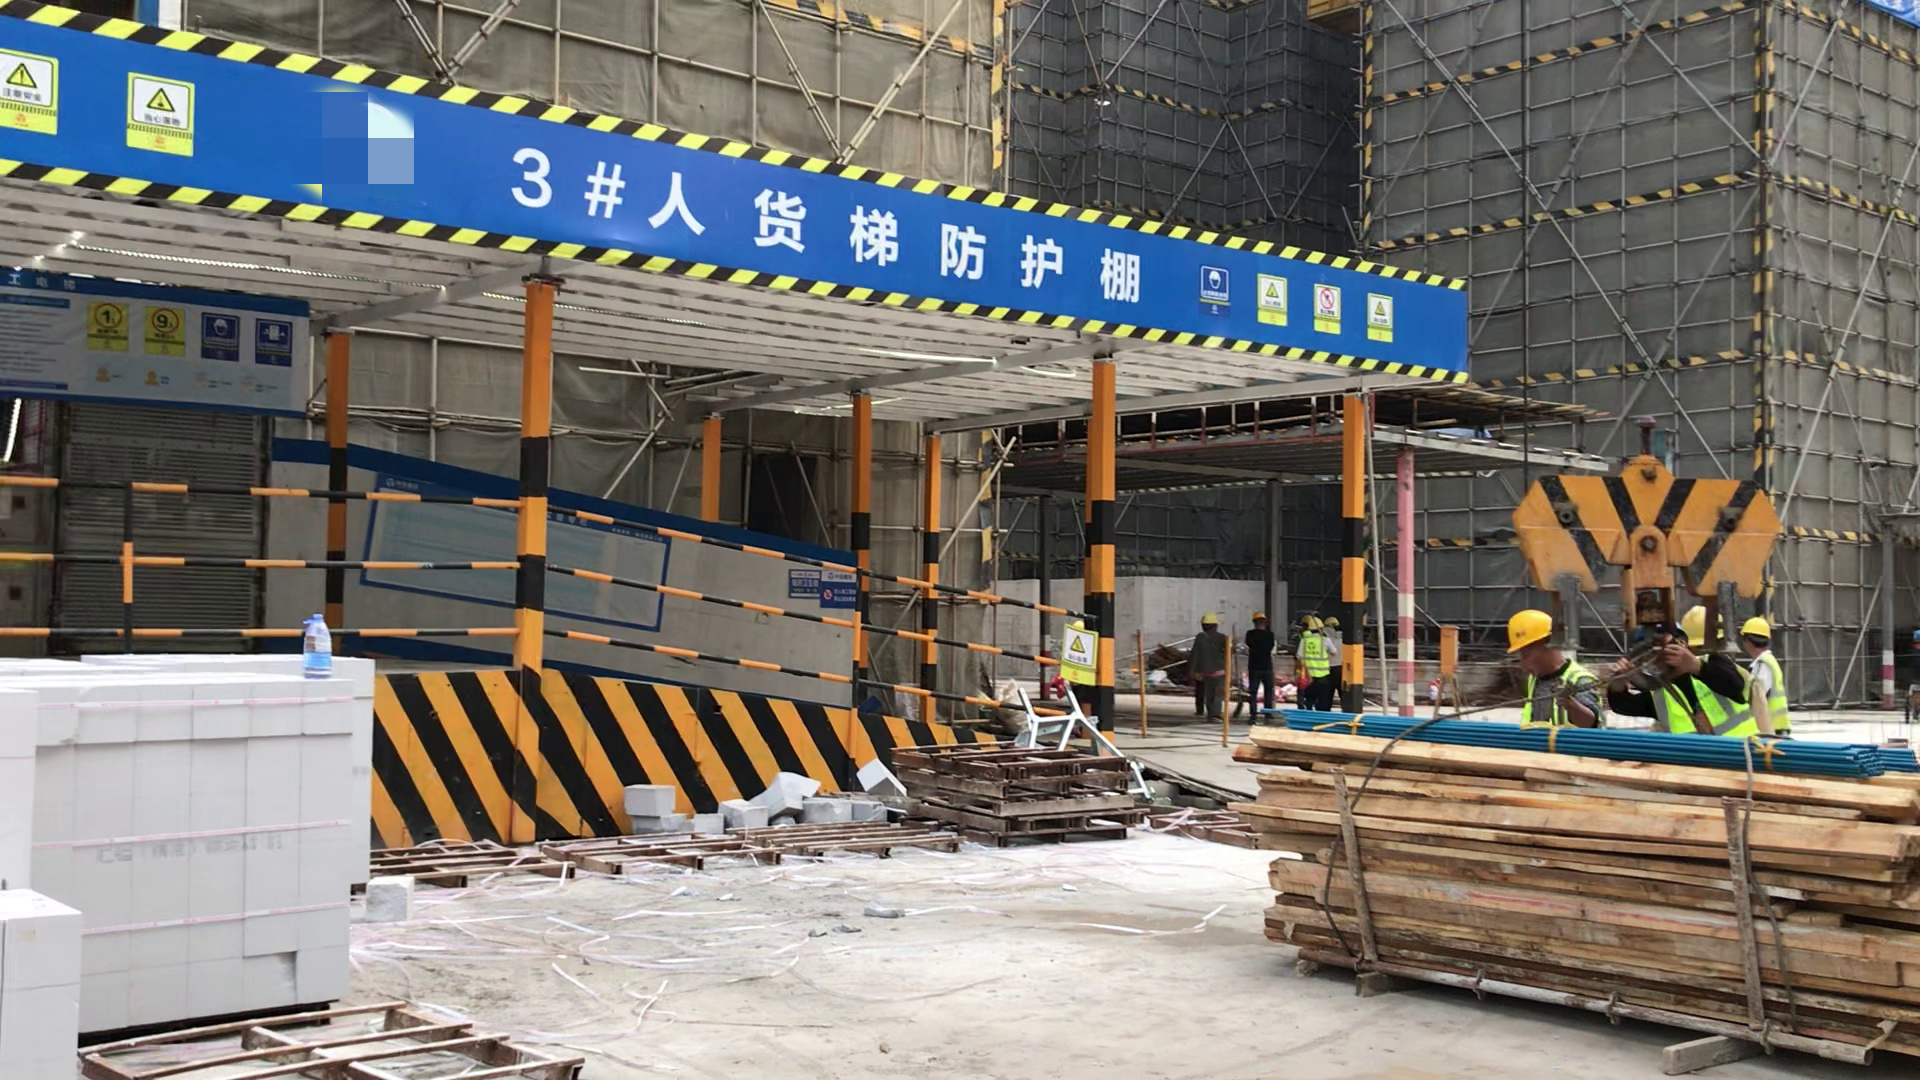helmet: (1501, 610, 1558, 652), (1680, 608, 1730, 645), (1739, 614, 1772, 648), (1299, 612, 1326, 632), (1200, 612, 1220, 626), (1326, 612, 1339, 630), (1251, 611, 1269, 621)
person: (1654, 606, 1752, 739), (1503, 610, 1606, 729), (1738, 615, 1801, 740), (1295, 612, 1340, 714), (1192, 612, 1229, 725), (1246, 606, 1278, 728)
vest: (1657, 669, 1761, 739), (1518, 669, 1592, 729), (1747, 651, 1792, 731), (1298, 632, 1331, 678)
